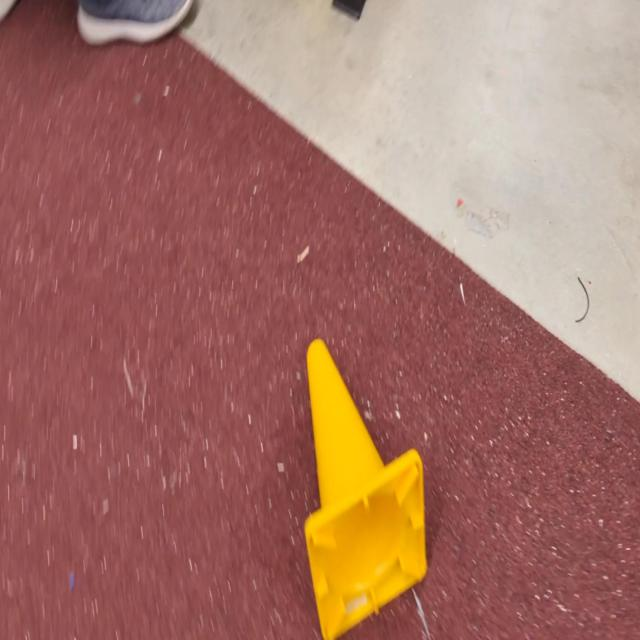frc_cone: (304, 339, 426, 639)
